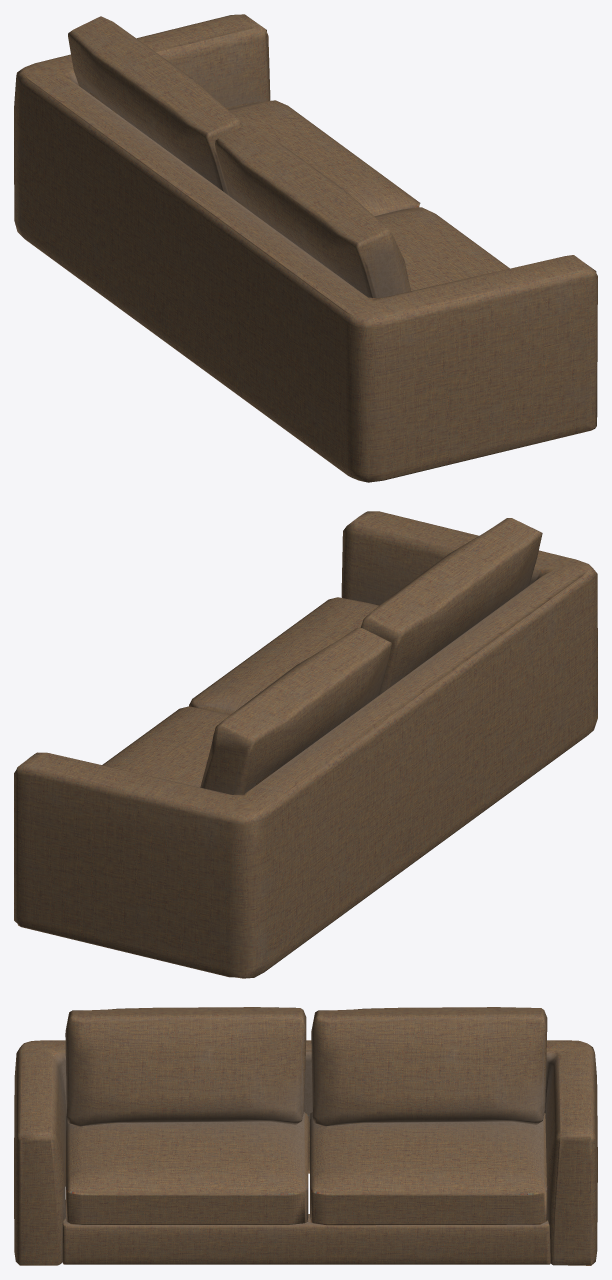
File: SM_Sofa_LOD3_002.fbx
3 renders of one model, top to bottom at view 1: azimuth 30°, elevation 25°; view 2: azimuth 150°, elevation 25°; view 3: azimuth 270°, elevation 25°, orthographic. The views are drawn at different scales.
Visible parts, largest first — view 1: SM_Sofa_LOD3.002; view 2: SM_Sofa_LOD3.002; view 3: SM_Sofa_LOD3.002.
Boxes of the visible parts, left/top/right/bottom form: SM_Sofa_LOD3.002: left=14, top=14, right=597, bottom=482; SM_Sofa_LOD3.002: left=14, top=511, right=597, bottom=978; SM_Sofa_LOD3.002: left=14, top=1007, right=597, bottom=1265.
Size of the model in its own units: 104 by 90.81 by 263.
